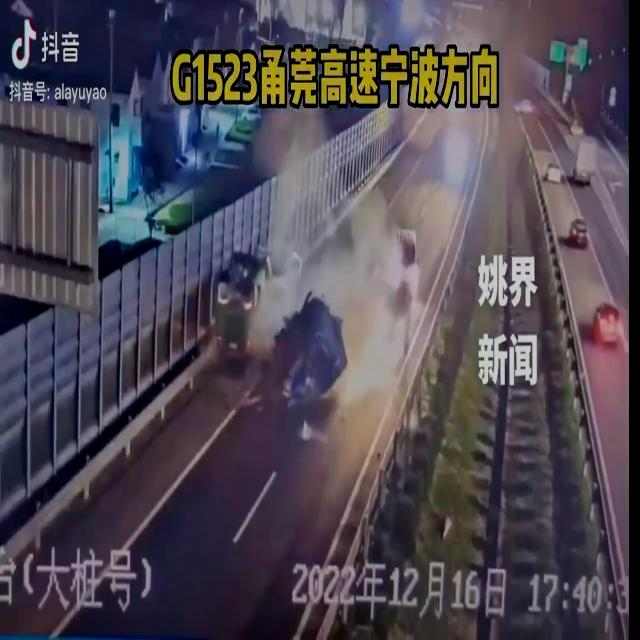accident: (206, 242, 364, 412)
non-accident: (544, 132, 600, 188)
